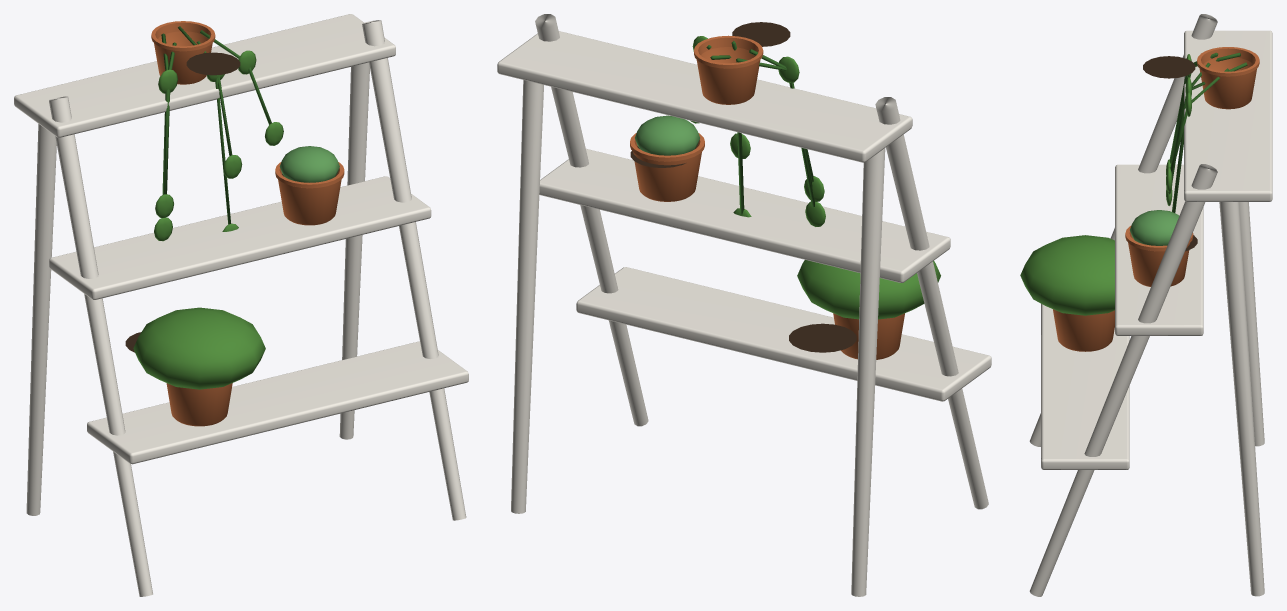
File: plant_stand.glb
3 renders of one model, left to right at view 1: azimuth 30°, elevation 25°; view 2: azimuth 150°, elevation 25°; view 3: azimuth 270°, elevation 25°, orthographic. The views are drawn at different scales.
Visible parts, largest first — view 1: model; view 2: model; view 3: model.
Boxes of the visible parts, <box> form: model: <box>14,14,468,596</box>; model: <box>497,14,991,596</box>; model: <box>1020,14,1272,596</box>.
Size of the model in its own units: 0.78 by 1.01 by 0.512.
6 materials, 6 textured.
